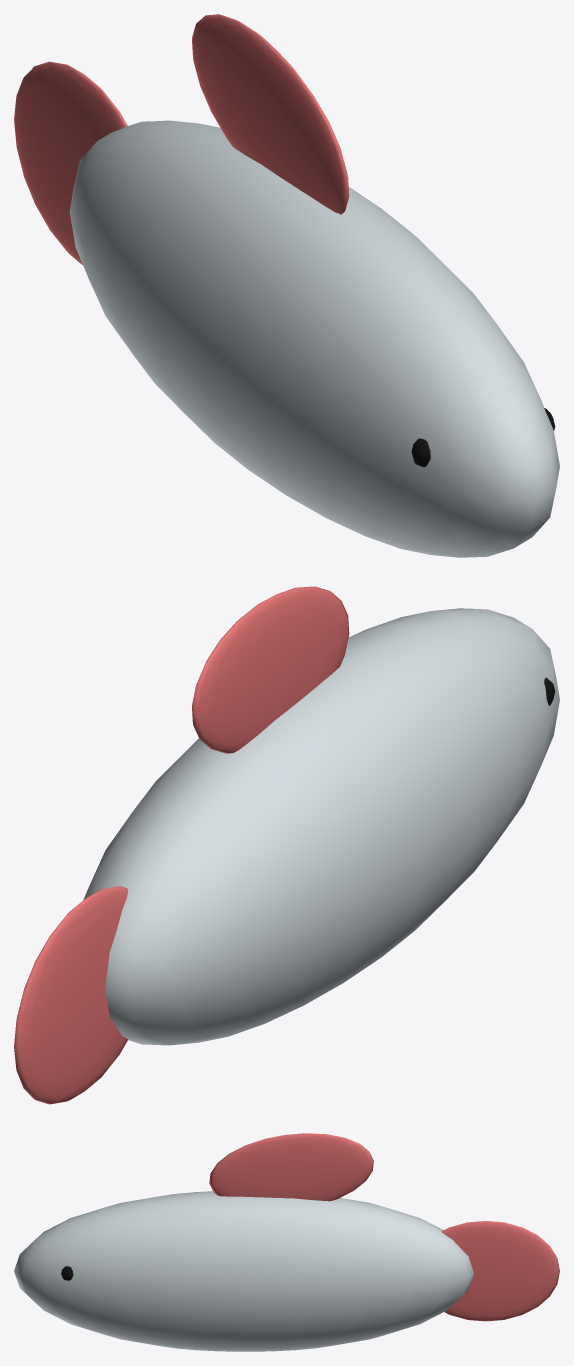
File: seabream.glb
3 renders of one model, top to bottom at view 1: azimuth 30°, elevation 25°; view 2: azimuth 150°, elevation 25°; view 3: azimuth 270°, elevation 25°, orthographic. The views are drawn at different scales.
Parts seen in each view (by area): view 1: seabream; view 2: seabream; view 3: seabream.
Boxes of the visible parts, x1,y1,x2,y2 form: seabream: (14, 14, 559, 557); seabream: (14, 586, 559, 1104); seabream: (14, 1133, 559, 1351).
Bounding box in the file's own units: 0.224 × 0.4087 × 0.944.
